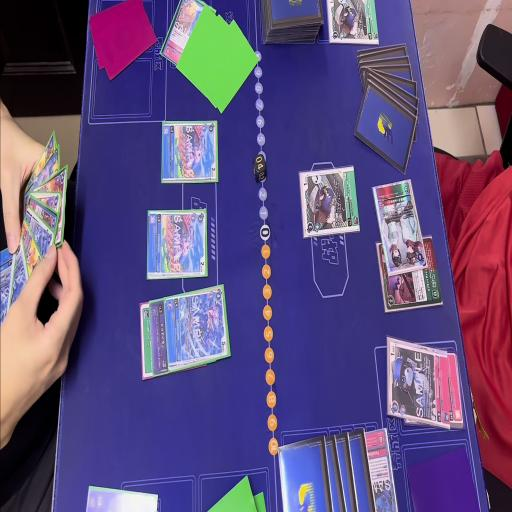card: (168, 280, 230, 369), (372, 175, 428, 270), (376, 234, 444, 312), (387, 346, 450, 424), (146, 207, 207, 284), (300, 164, 360, 240), (160, 122, 219, 184), (161, 0, 207, 71), (362, 425, 398, 512), (326, 0, 378, 51), (20, 123, 56, 187), (85, 480, 156, 512), (26, 138, 62, 200), (22, 205, 54, 263), (9, 233, 30, 306), (0, 236, 16, 330), (447, 352, 465, 430), (31, 163, 70, 197), (28, 194, 60, 232), (151, 298, 166, 377), (20, 218, 41, 272), (139, 297, 152, 381), (28, 192, 62, 217)
